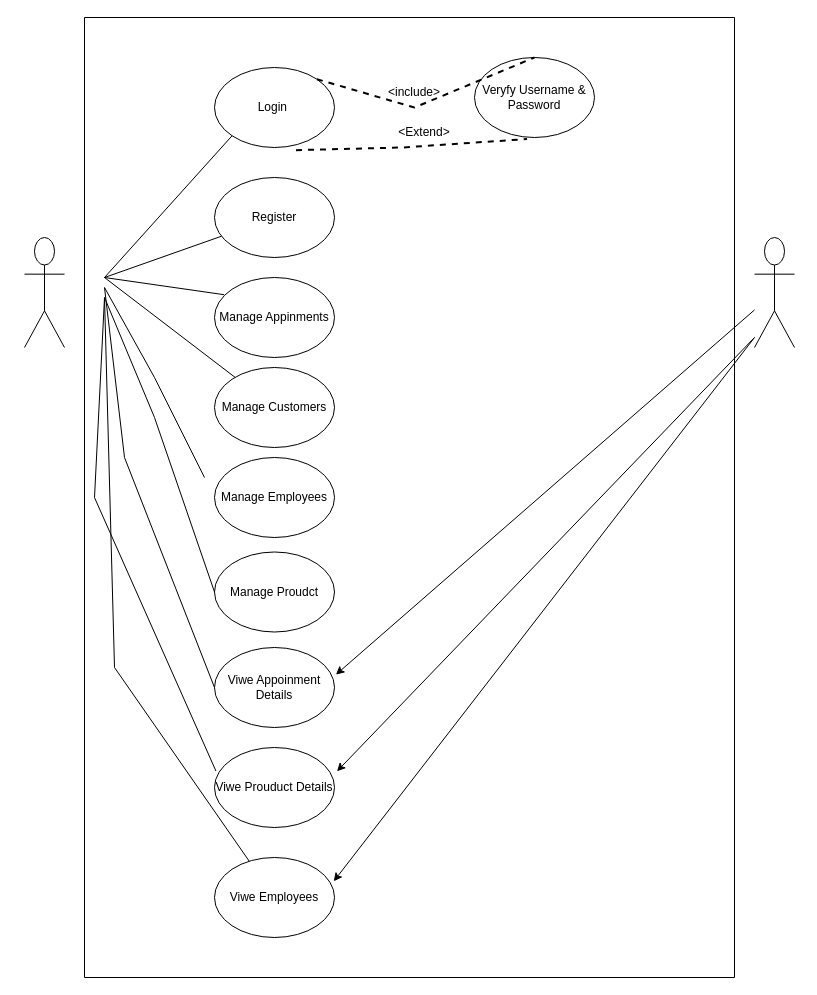
This 817x995 diagram has some shape labels left out. Here are the shapes that lost their labels. From the top down, the centre of each, then its label:
At point (44, 292): "Reseption".
At point (774, 292): "Customer".
